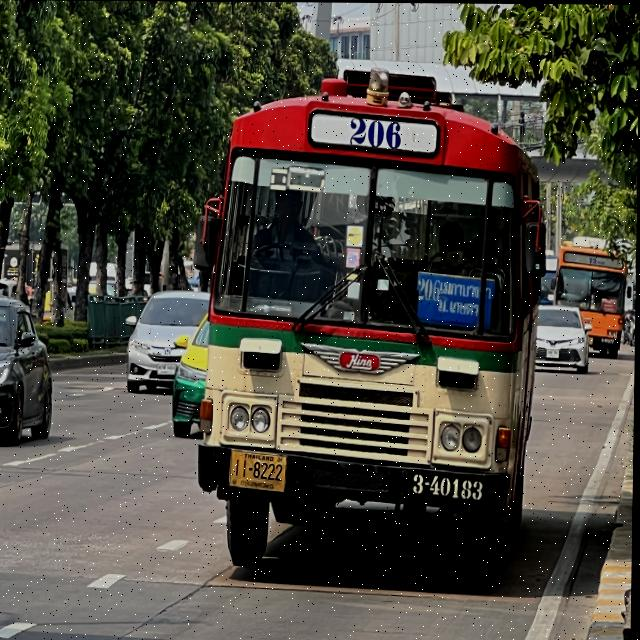BMTA-bus: (194, 60, 555, 583), (551, 234, 631, 355)
Bus Line Number: (340, 109, 408, 155), (587, 255, 608, 265)
Bus Side Number: (409, 471, 490, 507), (601, 336, 616, 344)
Destination Sign: (413, 266, 496, 333), (601, 298, 619, 313)
